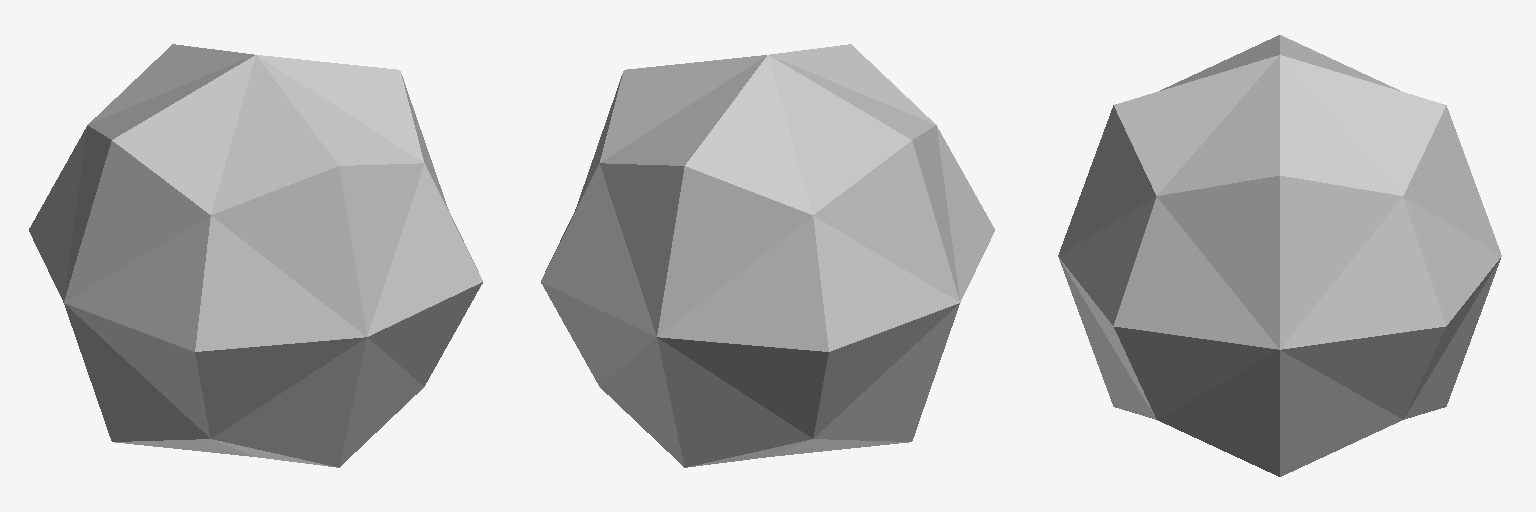
Rendered from skybox.obj.
The picture shows the model from 3 angles: view 1: azimuth 30°, elevation 25°; view 2: azimuth 150°, elevation 25°; view 3: azimuth 270°, elevation 25°; orthographic projection.
Size of the model in its own units: 2.14 by 2.14 by 2.14.